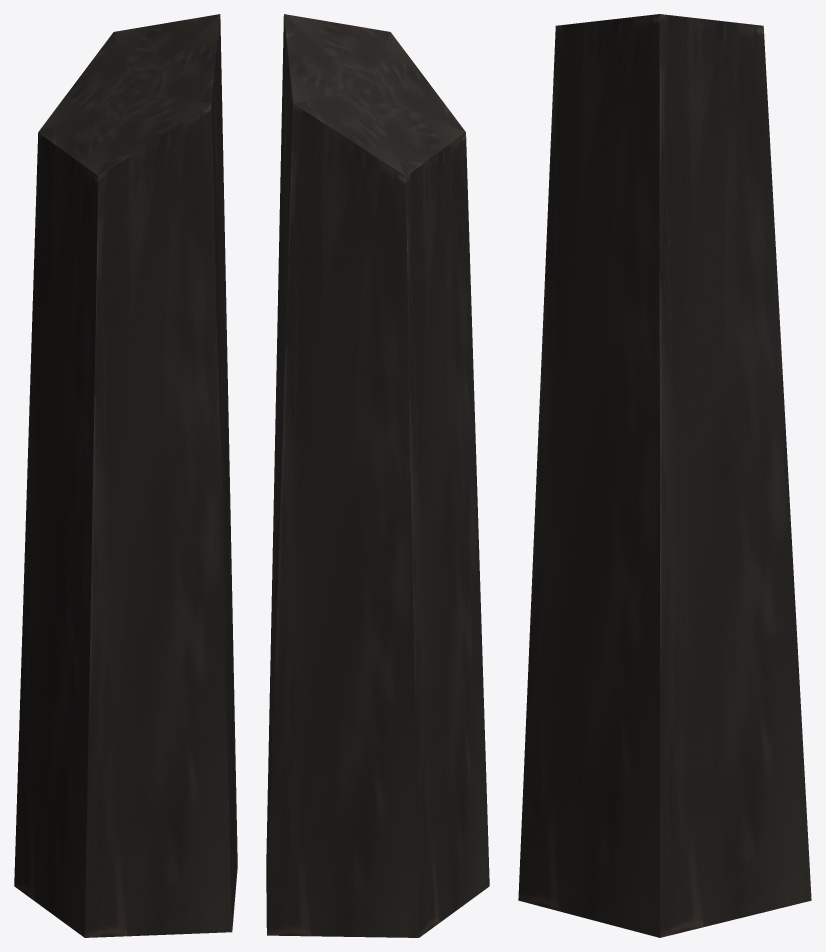
Rendered from treestumpburn.gltf.
3 renders of one model, left to right at view 1: azimuth 30°, elevation 25°; view 2: azimuth 150°, elevation 25°; view 3: azimuth 270°, elevation 25°, orthographic. The views are drawn at different scales.
Visible parts, largest first — view 1: treestumpburn_atomic0; view 2: treestumpburn_atomic0; view 3: treestumpburn_atomic0.
Boxes of the visible parts, bbox=[...] form: treestumpburn_atomic0: bbox=[14, 14, 237, 937]; treestumpburn_atomic0: bbox=[266, 14, 489, 937]; treestumpburn_atomic0: bbox=[518, 14, 811, 937].
Bounding box in the file's own units: 2.55 × 11.11 × 3.23.
Materials: 1 (1 with a texture image).
